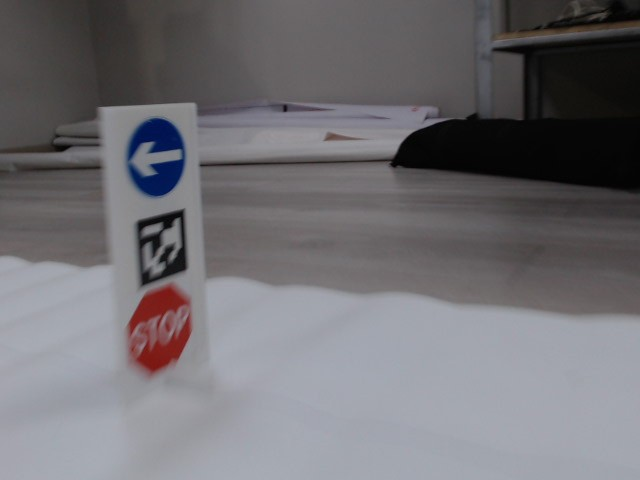Stop: (128, 284, 193, 372)
